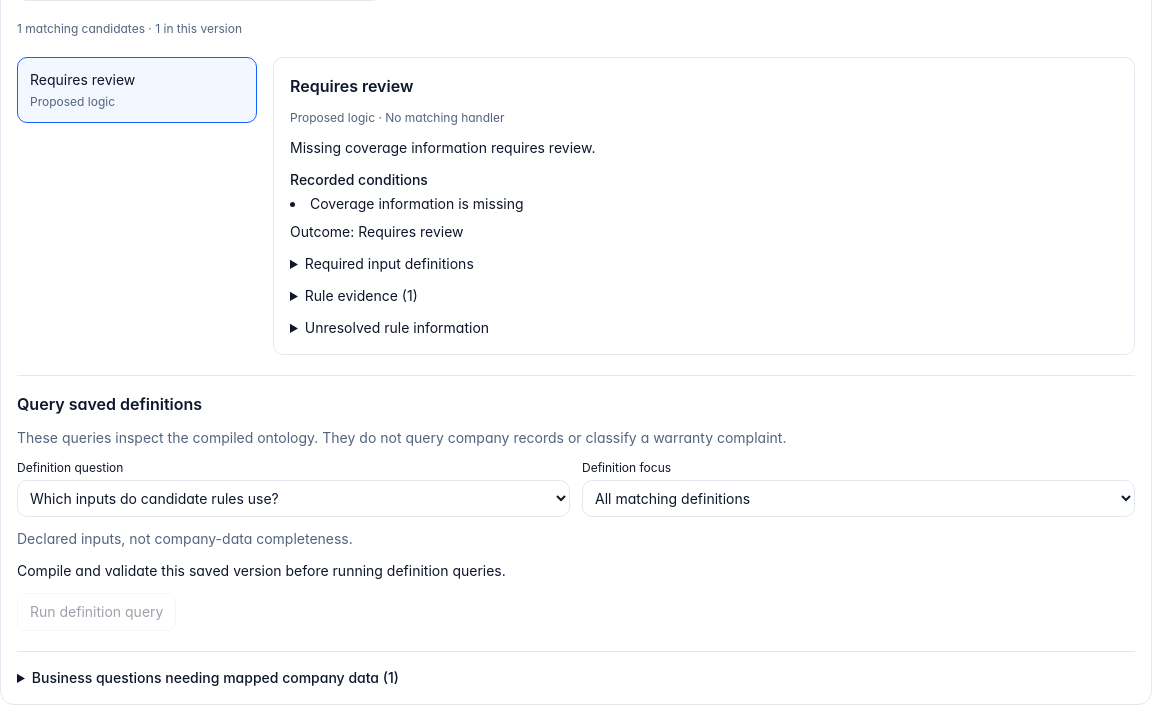
Scenario: disables unavailable queries and shows business prerequisites without auto-compilation
(page scrolled)
Check: the button "Run definition query" is disabled, box 17,593 -> 176,631
Check: the text "Compile and validate this saved version before running definition queries." is shown, box 17,562 -> 506,579
Step 1. Click the heading "Business questions needing mapped company data (1)" → (215, 678), box 32,669 -> 399,686
(page scrolled)
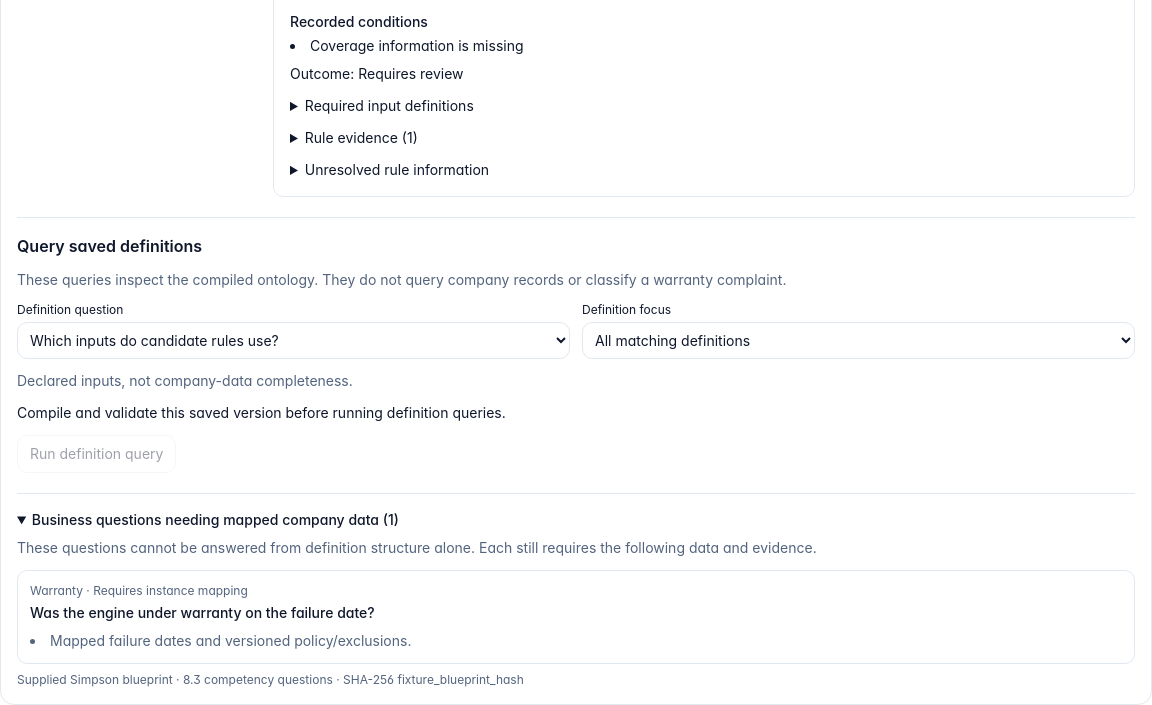
Check: the list item "Mapped failure dates and versioned policy/exclusions." is shown, box 50,632 -> 412,649
